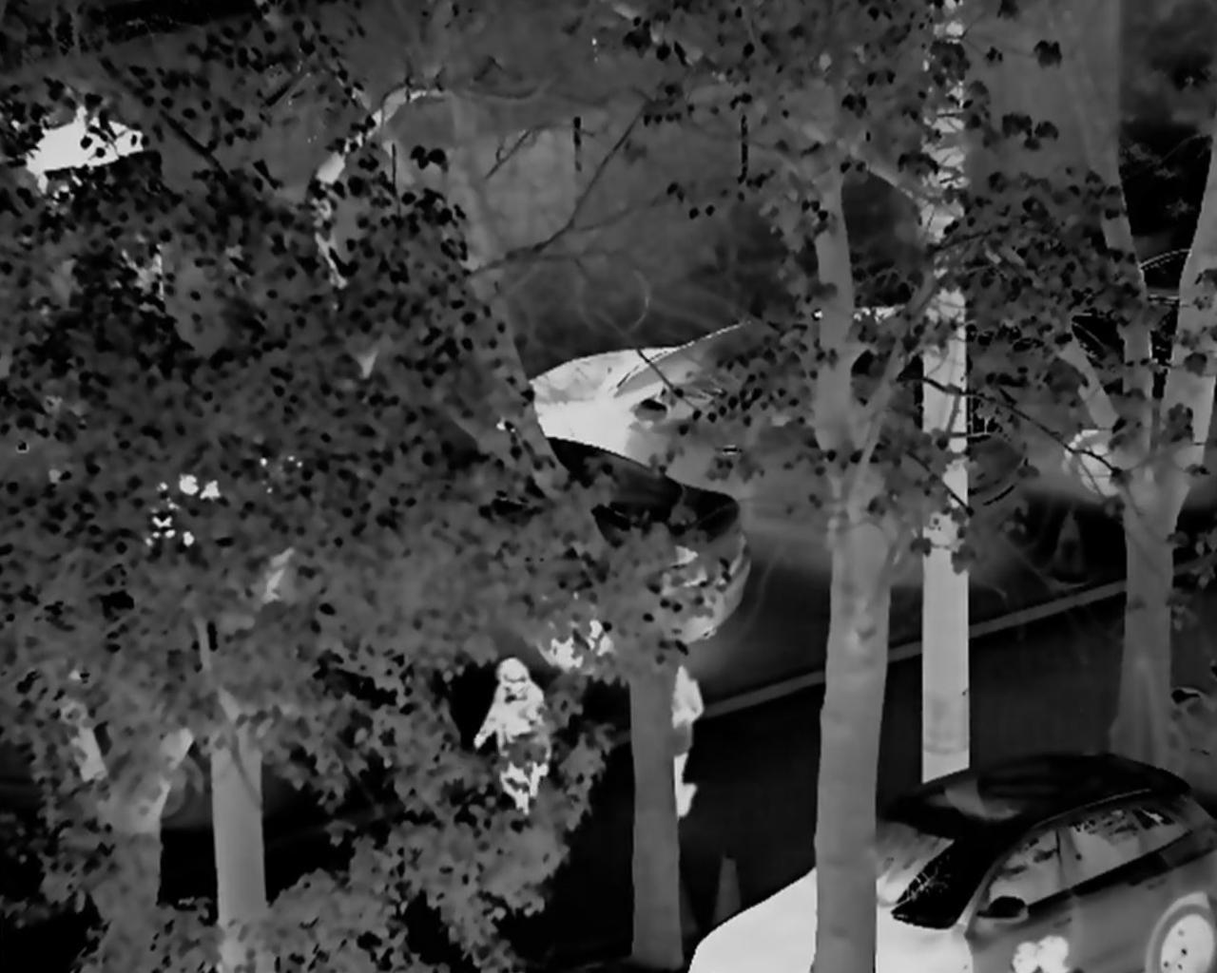person: (470, 651, 551, 832), (637, 649, 711, 822)
